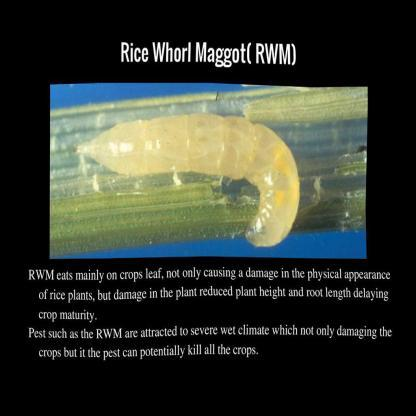whorl-maggot: (70, 108, 306, 250)
